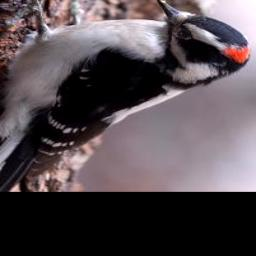Woodpecker: (0, 0, 256, 189)
